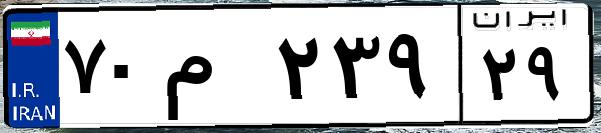0: (110, 28, 158, 98)
2: (270, 28, 330, 110), (475, 38, 525, 113)
3: (330, 28, 385, 110)
7: (57, 26, 110, 100)
9: (385, 28, 445, 110), (525, 38, 570, 115)
م: (158, 20, 270, 120)
